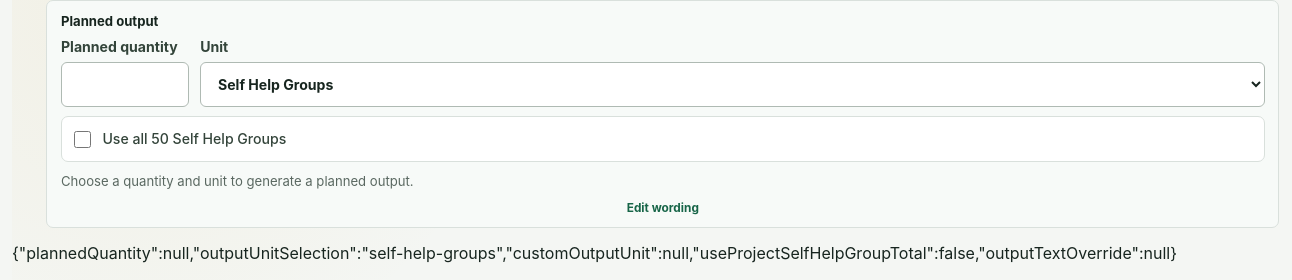
Test: Self Help Group total shortcut › uses the actual project total when selected
The image size is (1292, 280).
What coordinates should you click on to do the following:
click the checkbox labelled "Use all 50 Self Help Groups"
I would click on:
 (82, 140)
Its box is [74, 131, 91, 148].
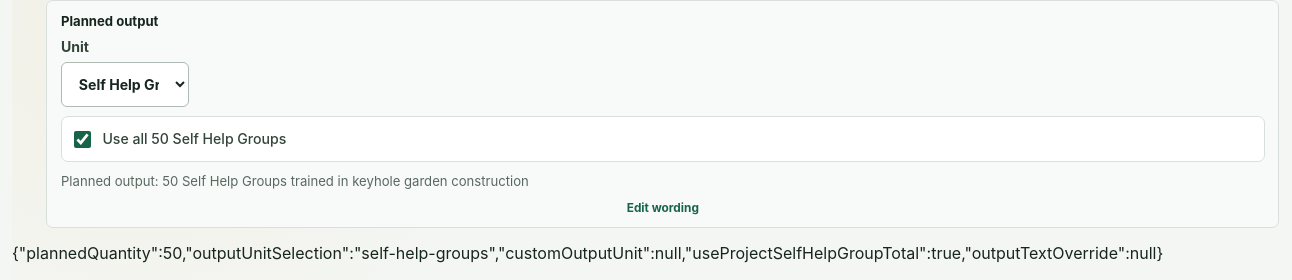
Expected: the text with test id "planning-state" shows "\"plannedQuantity\":50", [12, 243, 1163, 263]
Expected: the text with test id "planning-state" shows "\"useProjectSelfHelpGroupTotal\":true", [12, 243, 1163, 263]
